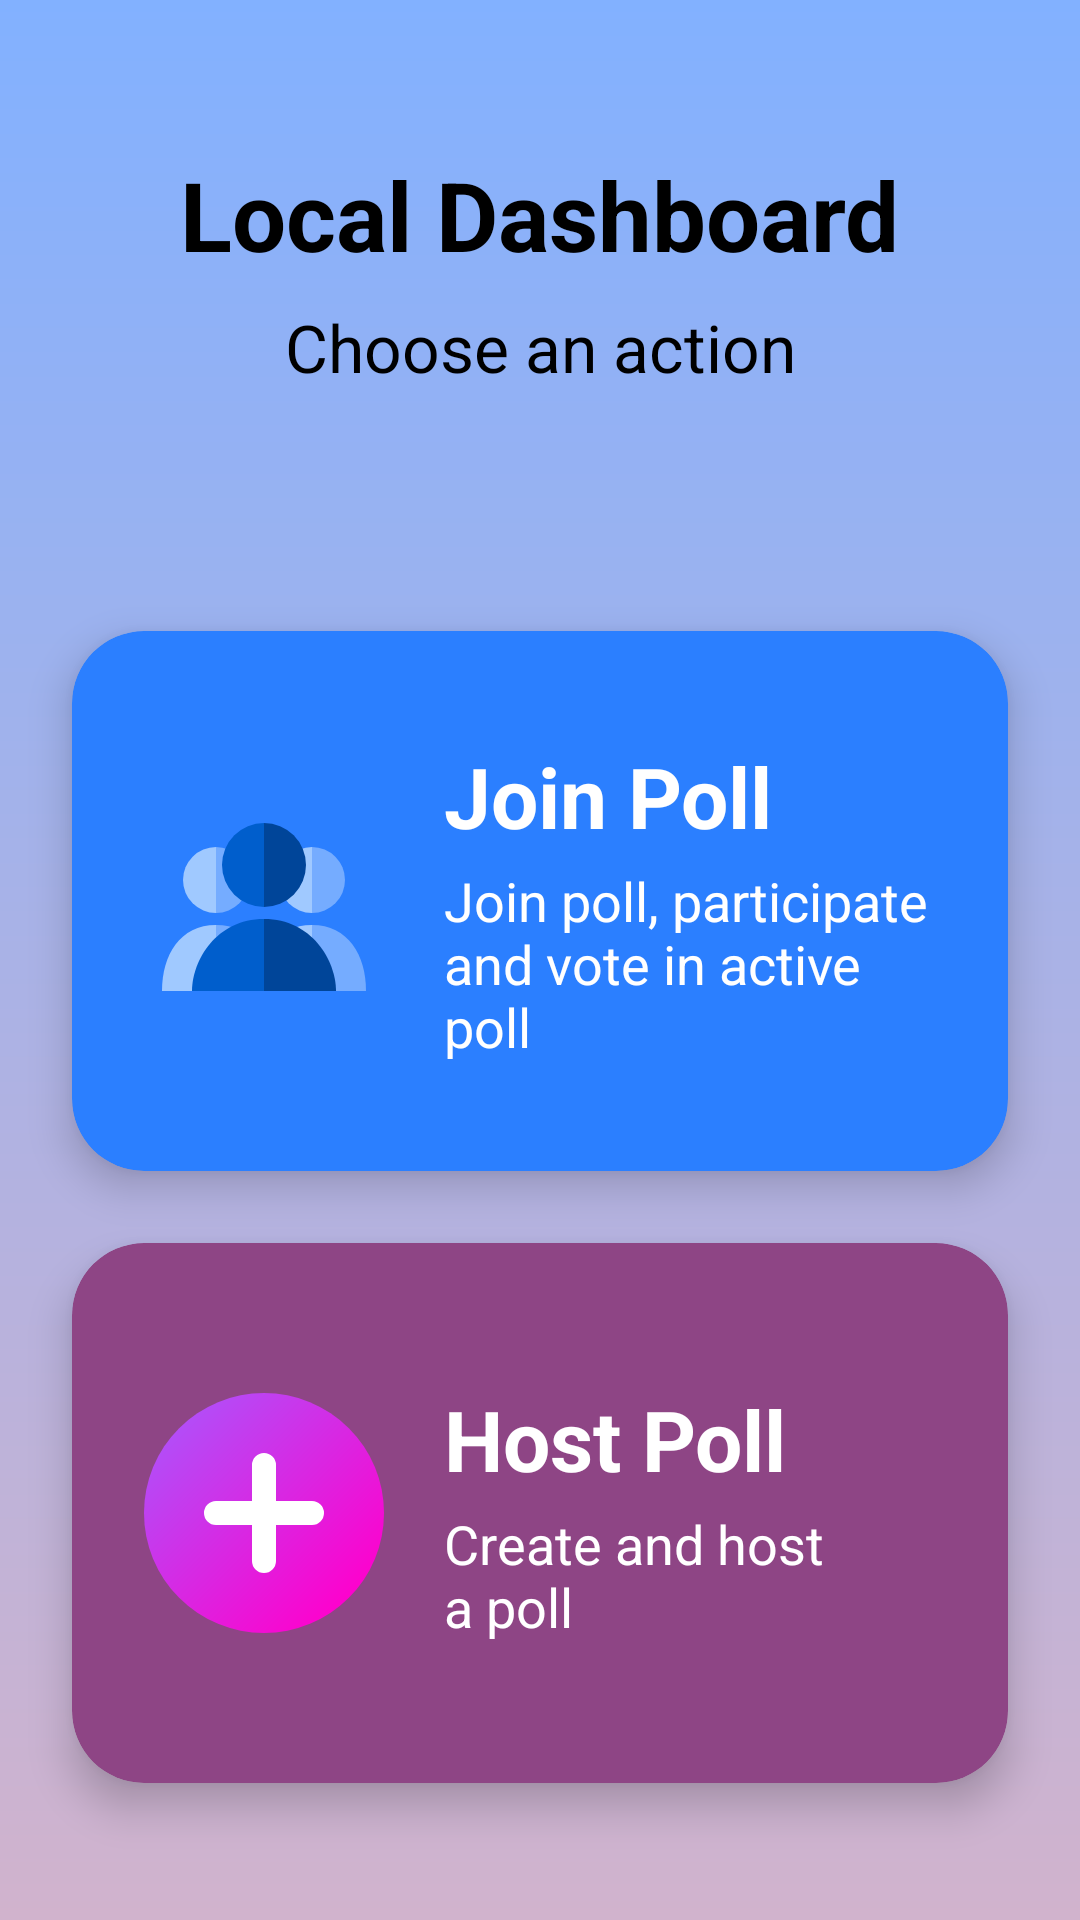

Named icons in this screenshot (1080 × 1920) and their centers, (x=x, y=y):
add circle online: (x=264, y=1513)
people local: (x=264, y=907)
